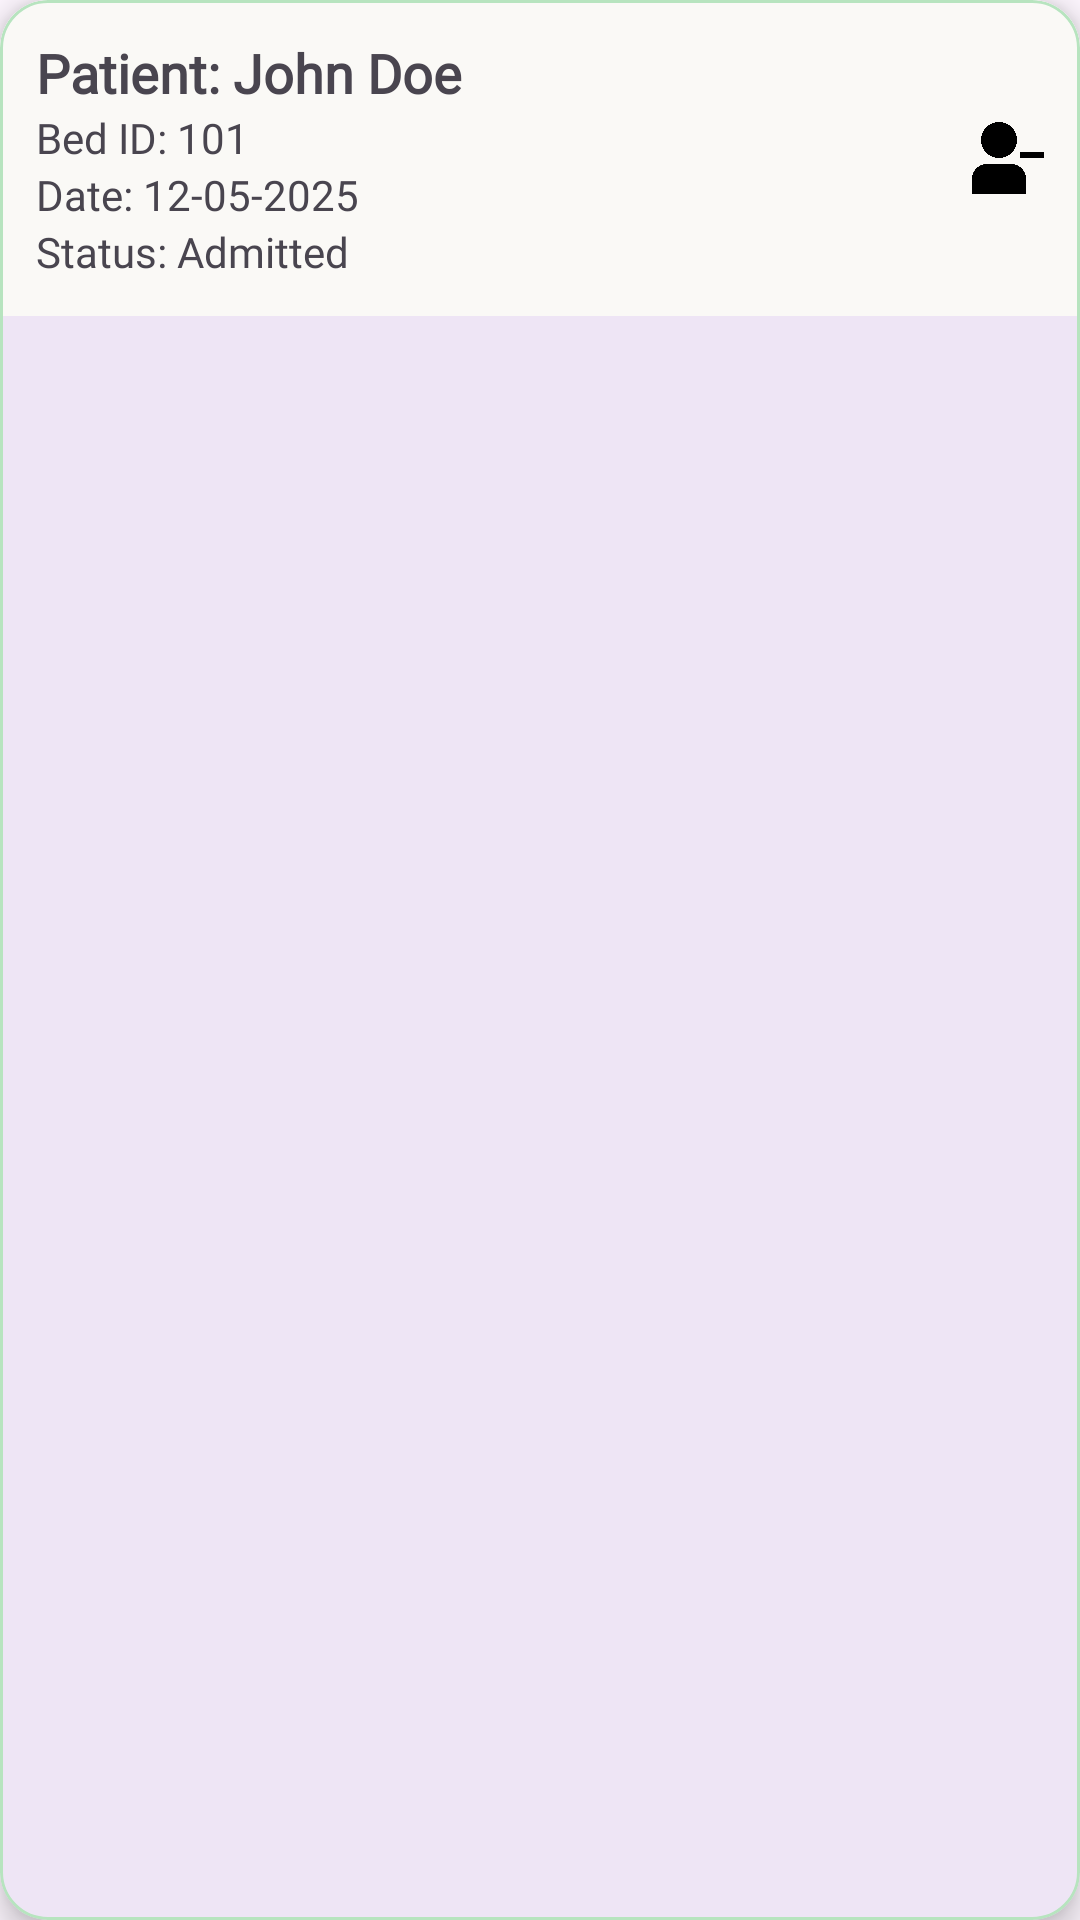

Where to tap for icons on this 1080 × 1920 app screen, as point (x, y):
Discharge: point (1008, 158)
